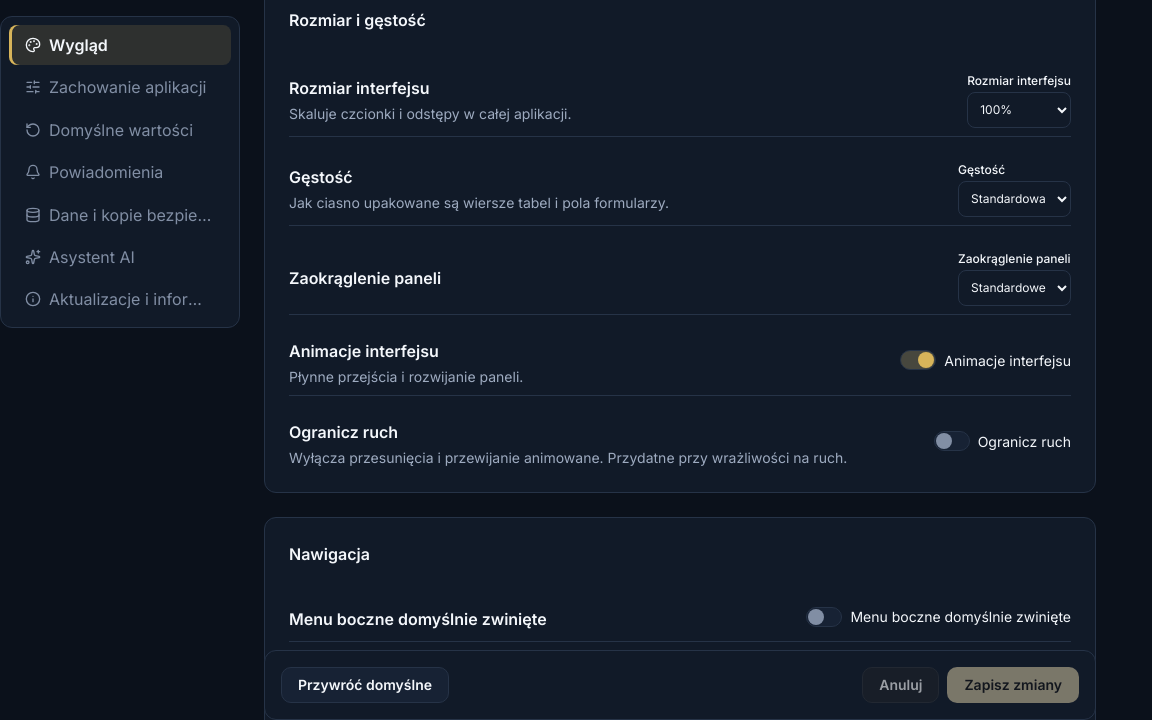
Test case: SettingsPage › opuszczenie zmienionej sekcji wymaga decyzji
(page scrolled)
Click the switch labelled "Animacje interfejsu": (986, 360) x1=900 y1=350 x2=1071 y2=371
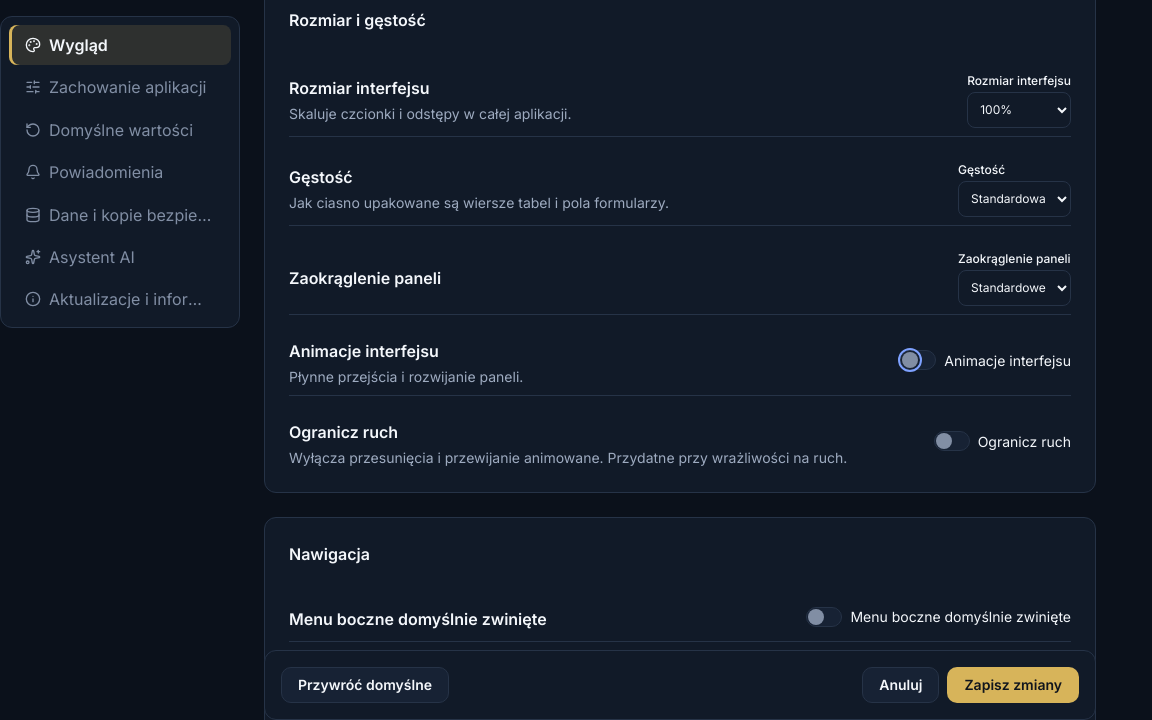
Click the button "Powiadomienia": (120, 172) x1=9 y1=152 x2=231 y2=192
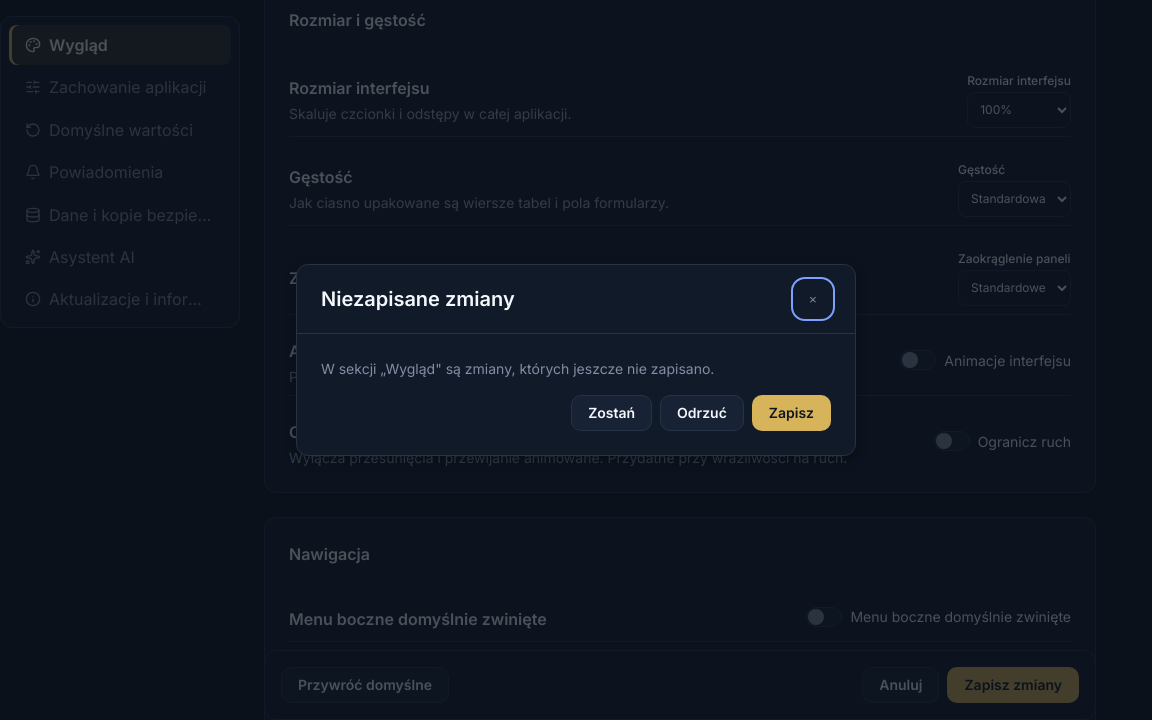
Click the button "Odrzuć": (702, 413) x1=660 y1=395 x2=744 y2=431
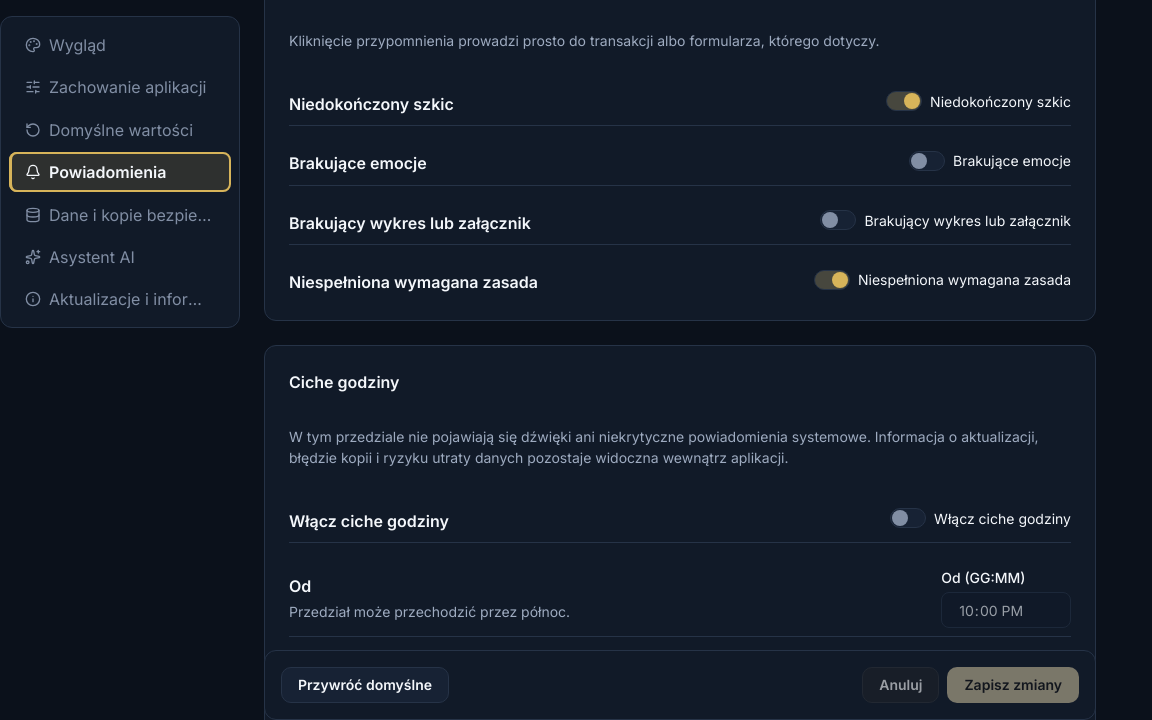
Expected: the heading "Ciche godziny" is shown, x1=289 y1=372 x2=400 y2=392
